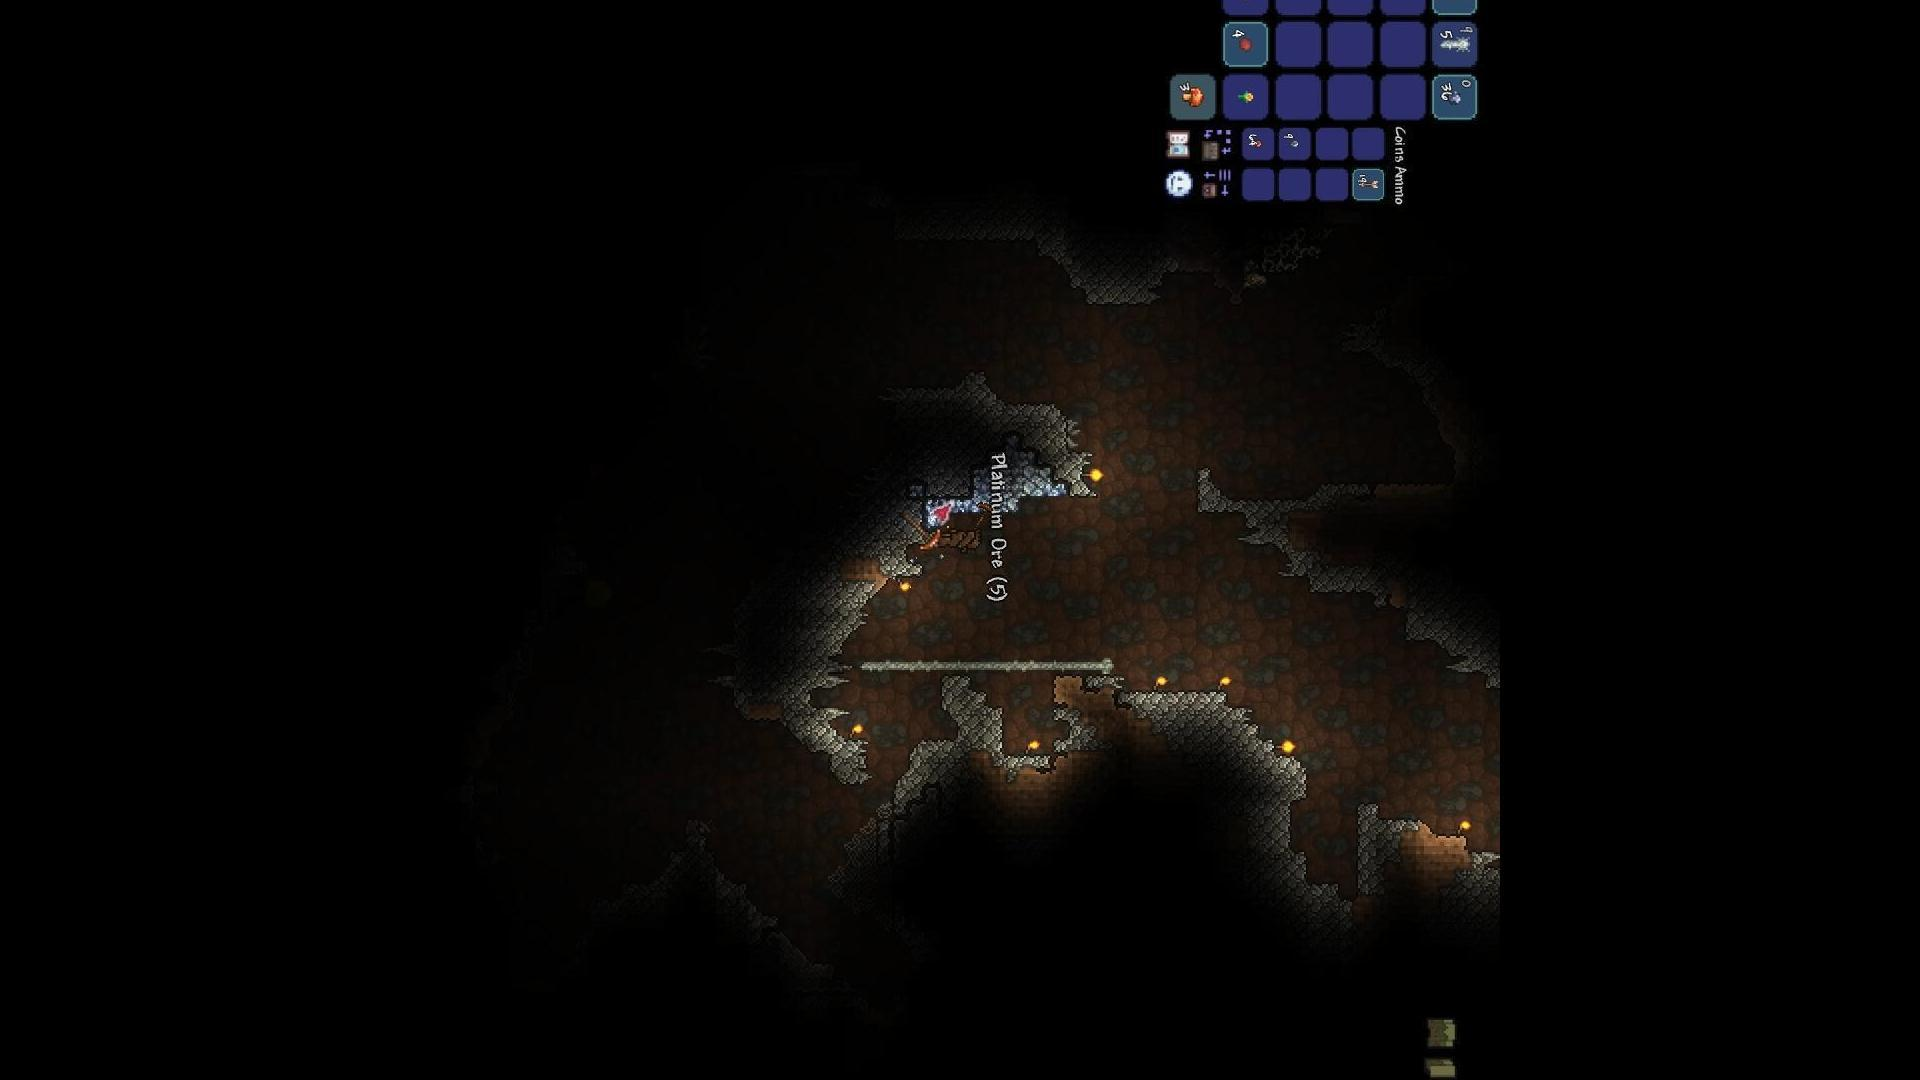gel: (1236, 36, 1251, 51)
rope: (1439, 37, 1473, 53)
